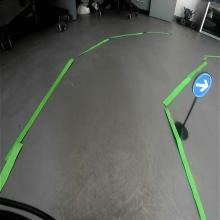right: (193, 72, 212, 98)
